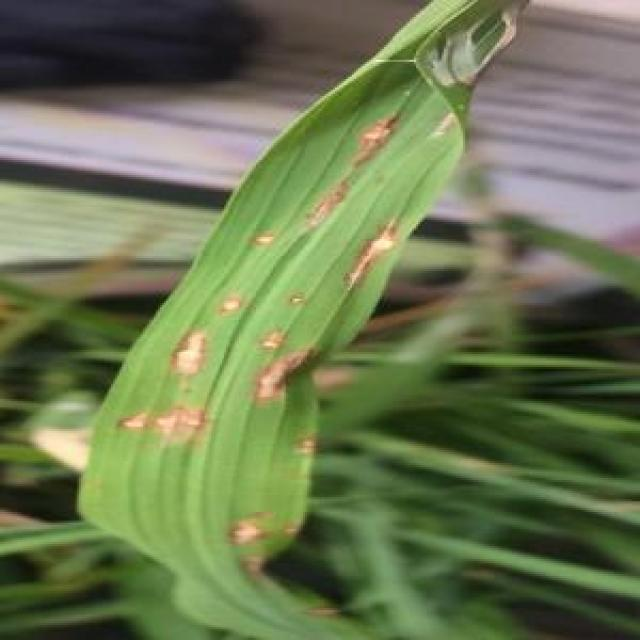Rice: (109, 401, 218, 446), (341, 218, 399, 294), (249, 344, 315, 410), (164, 320, 221, 383), (303, 168, 351, 236), (358, 103, 402, 163), (230, 513, 278, 558), (252, 320, 290, 355), (278, 282, 312, 312), (212, 294, 243, 323), (249, 230, 285, 252)
